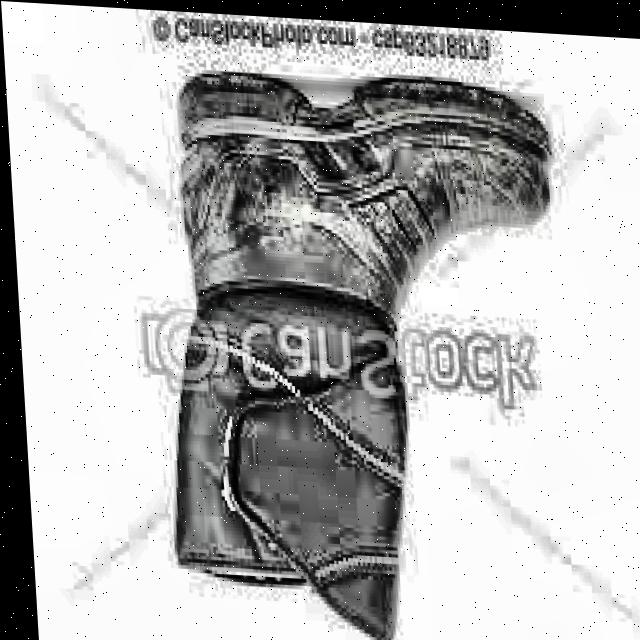shoes: (115, 52, 599, 640)
